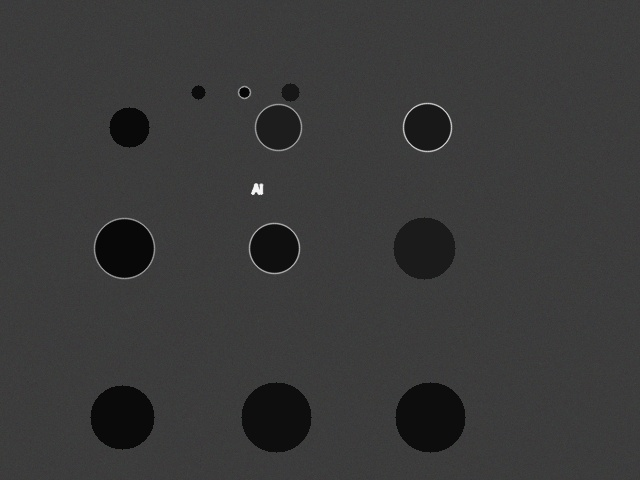hole: (241, 382, 311, 452), (395, 382, 465, 452), (90, 385, 154, 449), (393, 217, 455, 279), (94, 218, 154, 278), (249, 223, 299, 273), (403, 103, 451, 151), (255, 104, 301, 150), (109, 107, 149, 147), (281, 83, 299, 101), (191, 85, 205, 99), (238, 86, 250, 98)
